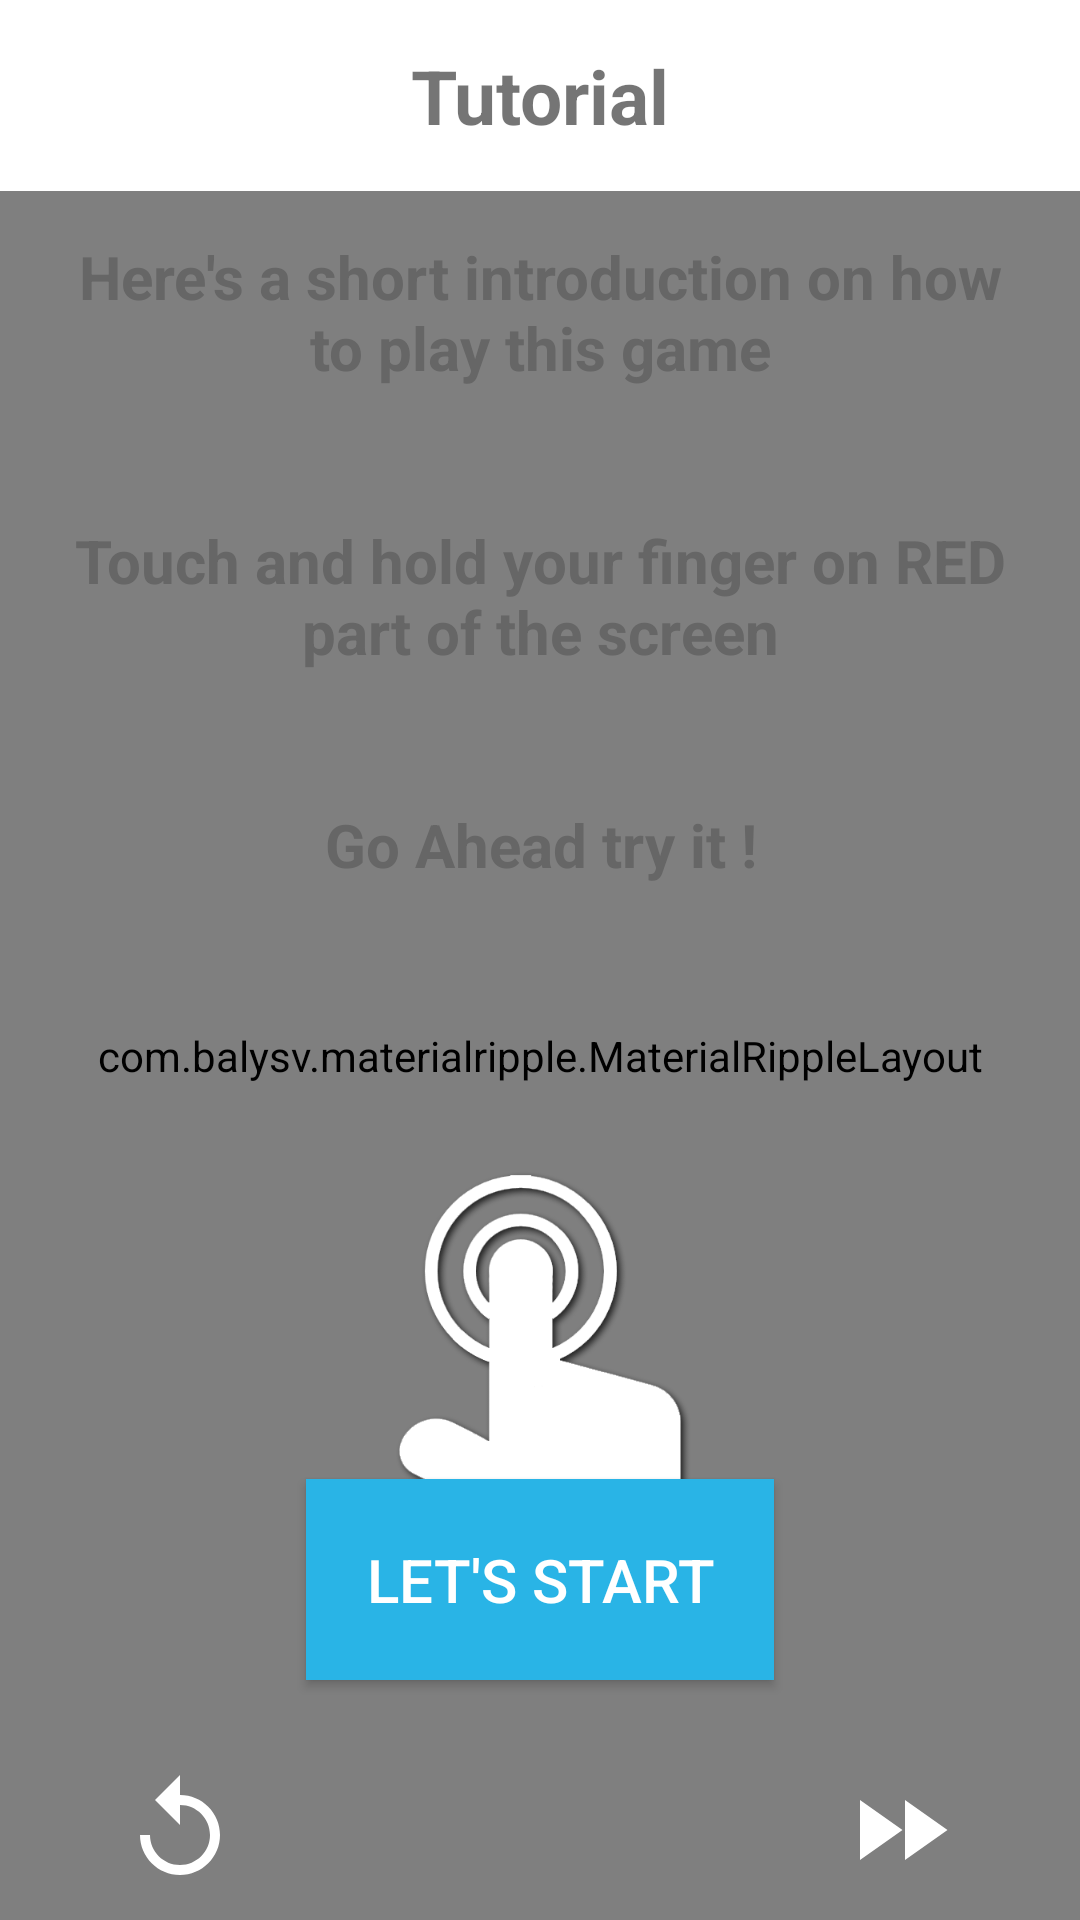

Screen size 1080*1920. Icon name, then its center in pixels as (x=x, y=y):
replay: (x=180, y=1825)
skip: (x=903, y=1830)
